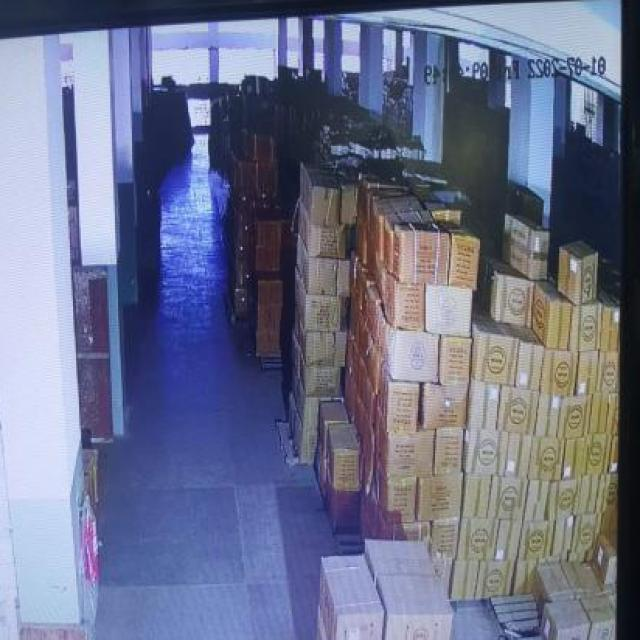fire: (208, 167, 233, 214)
